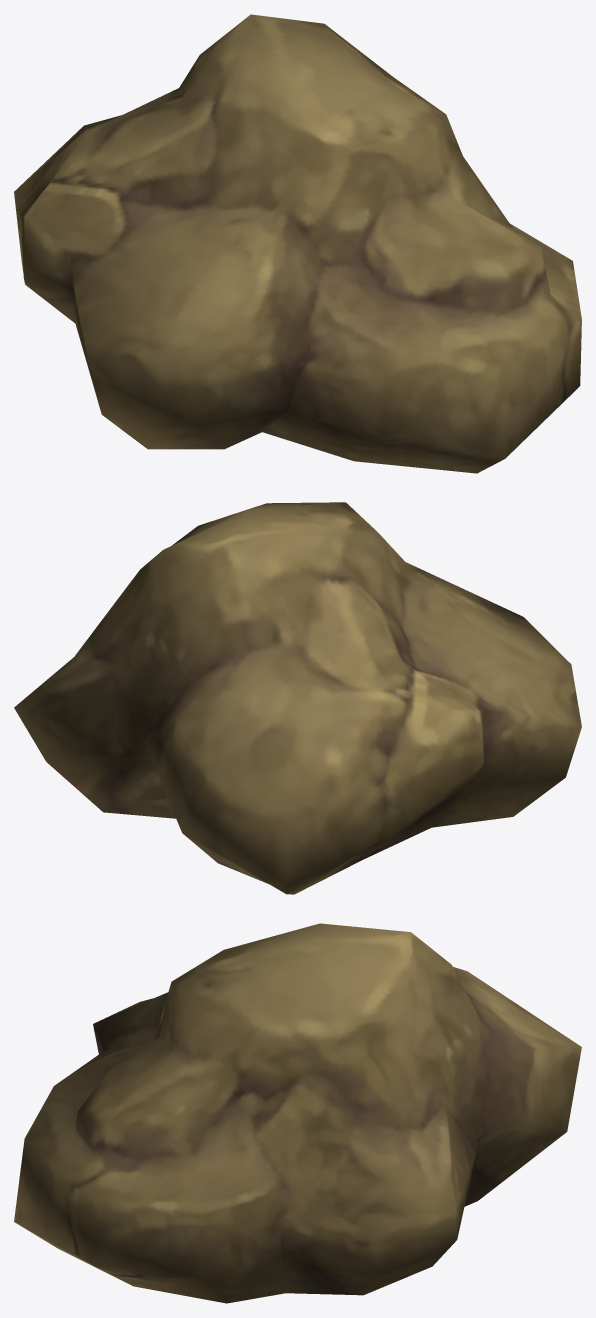
File: Rock2.fbx
3 renders of one model, top to bottom at view 1: azimuth 30°, elevation 25°; view 2: azimuth 150°, elevation 25°; view 3: azimuth 270°, elevation 25°, orthographic. The views are drawn at different scales.
Parts seen in each view (by area): view 1: Rock2; view 2: Rock2; view 3: Rock2.
Boxes of the visible parts, x1,y1,x2,y2 form: Rock2: (14,14,581,473); Rock2: (14,502,581,894); Rock2: (14,923,581,1303).
Bounding box in the file's own units: 8.61 × 9.49 × 5.58.
